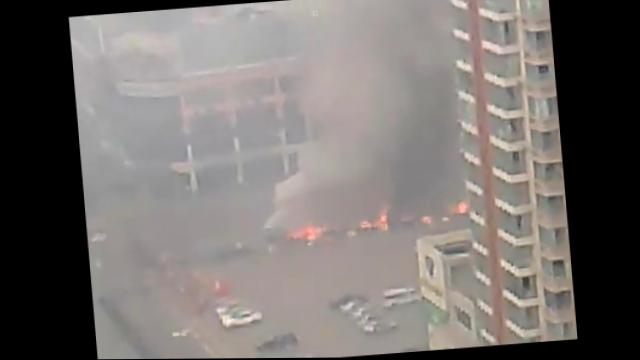fire: (289, 224, 317, 241), (373, 208, 392, 230), (454, 200, 468, 216)
